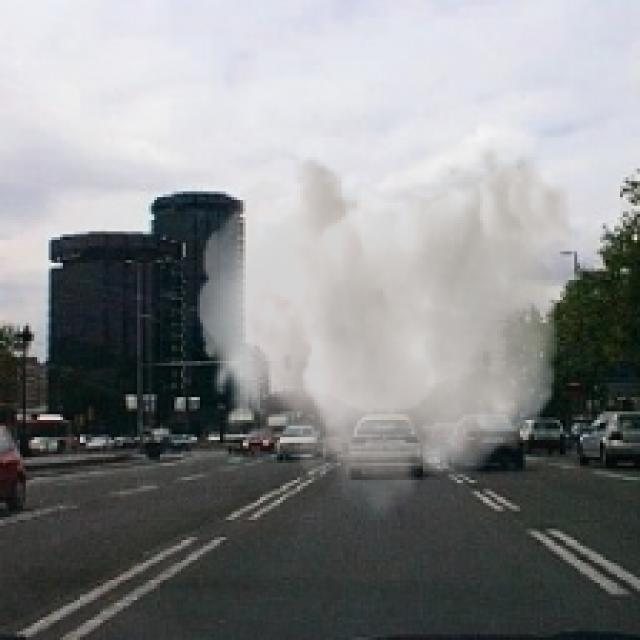smoke: (197, 143, 574, 526)
